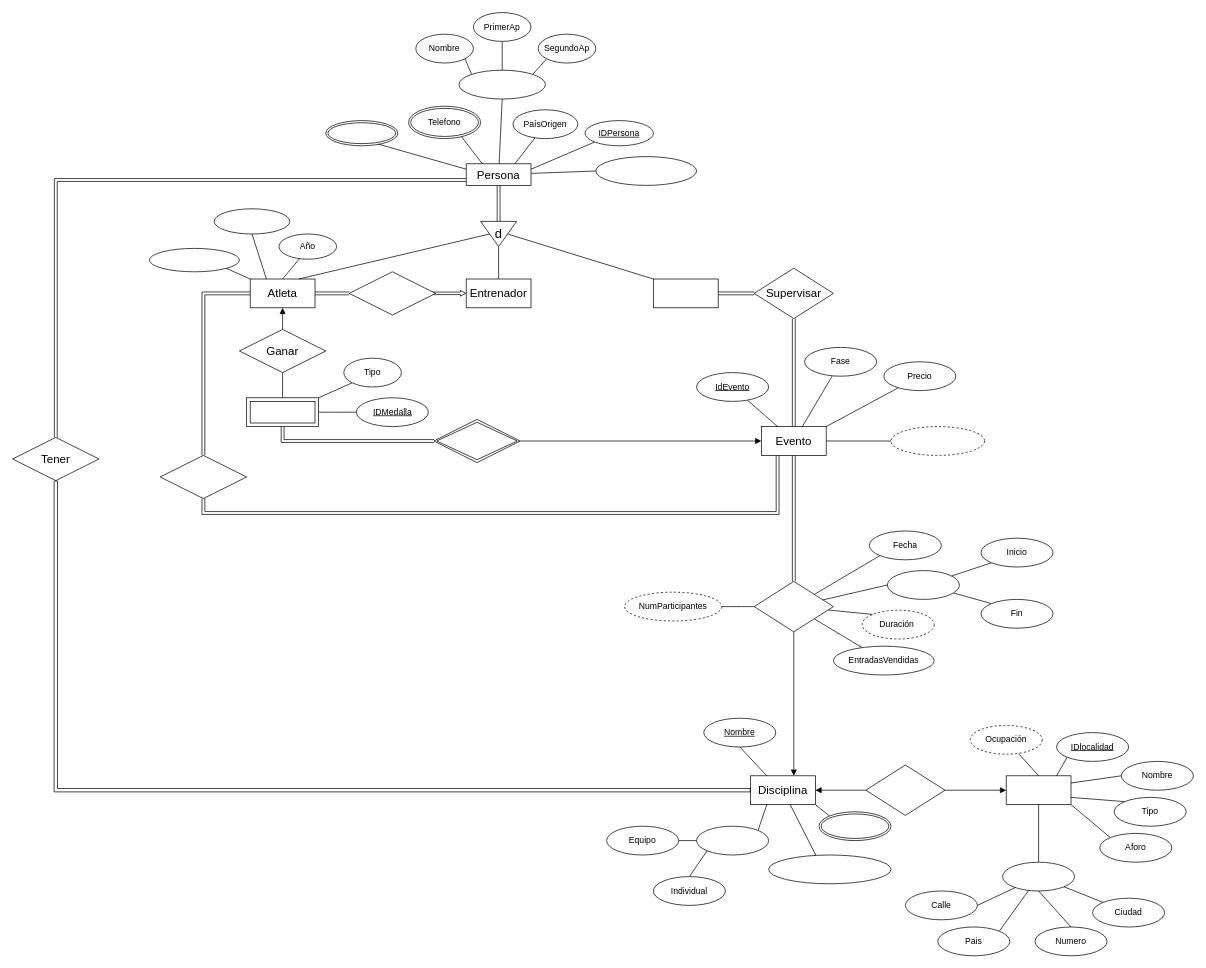
This 1206x968 diagram has some shape labels left out. Here are the shapes that lost their labels. From the top down, the centre of each, then its label:
At (x=501, y=84): "NombreCompleto".
At (x=361, y=133): "Correo".
At (x=646, y=170): "FechaNacimiento".
At (x=251, y=221): "Genero".
At (x=194, y=260): "RepresentarPaís".
At (x=392, y=293): "Instruir".
At (x=685, y=293): "Arbitro".
At (x=282, y=412): "Medalla".
At (x=476, y=441): "Entregar".
At (x=937, y=440): "PrecioFinal".
At (x=203, y=477): "Participar".
At (x=923, y=584): "Horario".
At (x=793, y=606): "Originar".
At (x=905, y=789): "Asignar".
At (x=1038, y=790): "Localidad".
At (x=732, y=840): "Categoría".
At (x=854, y=826): "Patrocinador".
At (x=829, y=869): "NumParticipantesEquipo".
At (x=1038, y=876): "Direccion".
